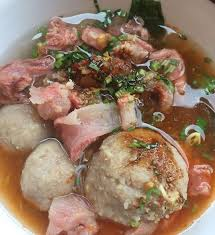bakso: (4, 22, 210, 222)
